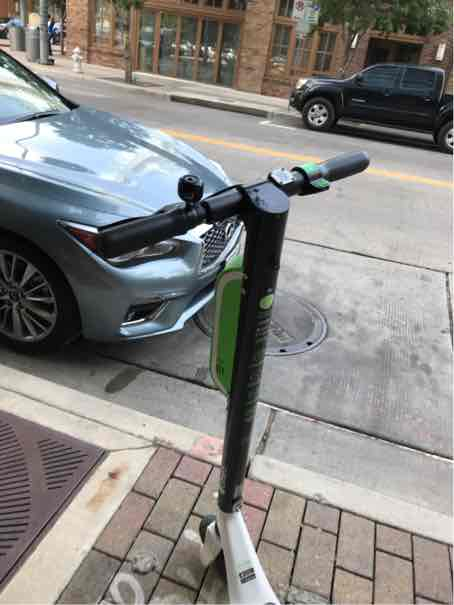scooter: (107, 142, 447, 605)
